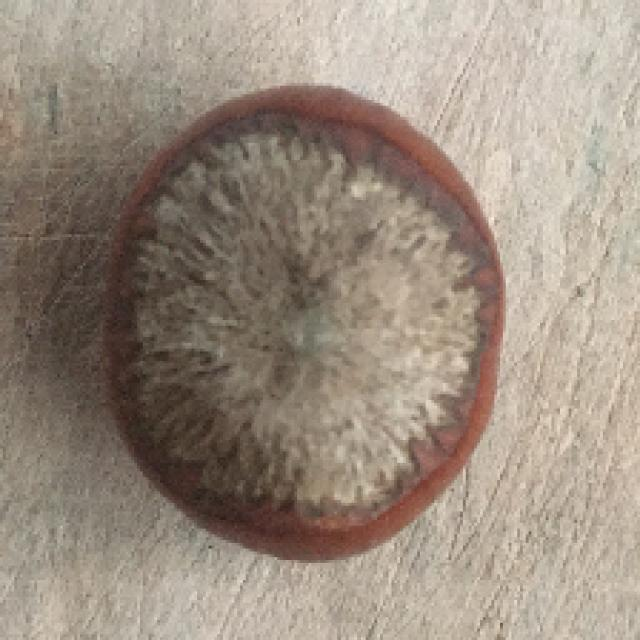qualityHazelnut: (81, 71, 509, 571)
